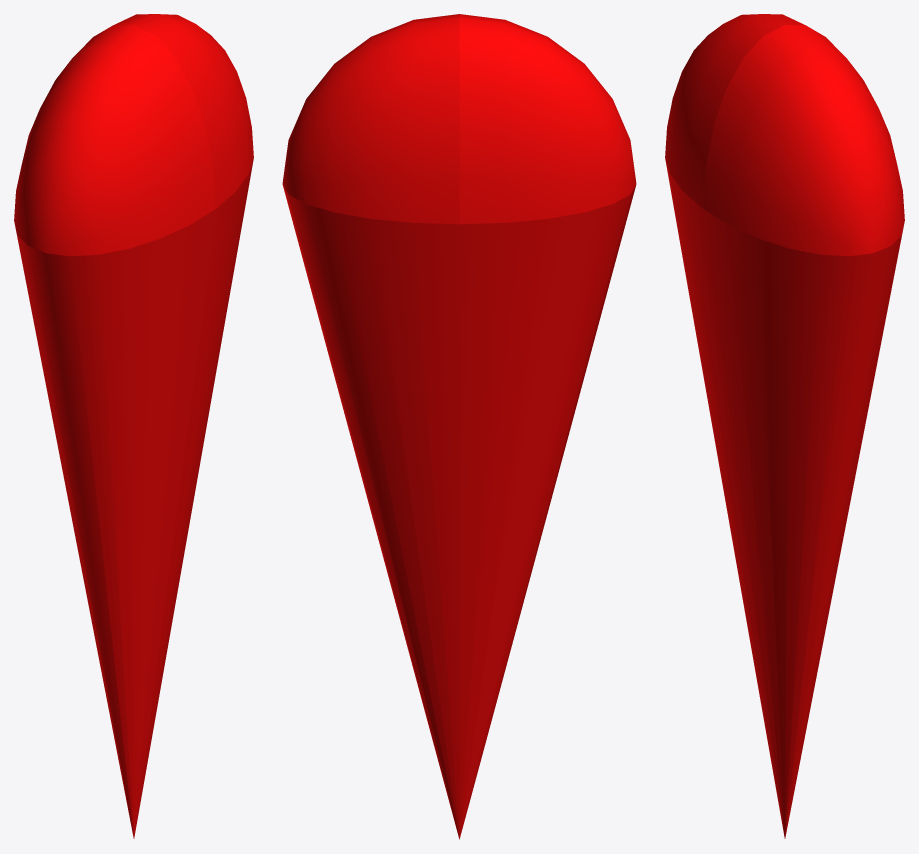
3 renders of one model, left to right at view 1: azimuth 30°, elevation 25°; view 2: azimuth 150°, elevation 25°; view 3: azimuth 270°, elevation 25°, orthographic.
Visible parts, largest first — view 1: group_0; view 2: group_0; view 3: group_0.
Boxes of the visible parts, bbox=[...] form: group_0: bbox=[14, 14, 253, 838]; group_0: bbox=[282, 14, 636, 839]; group_0: bbox=[665, 14, 904, 838].
Size of the model in its own units: 98.2 by 74 by 277.
